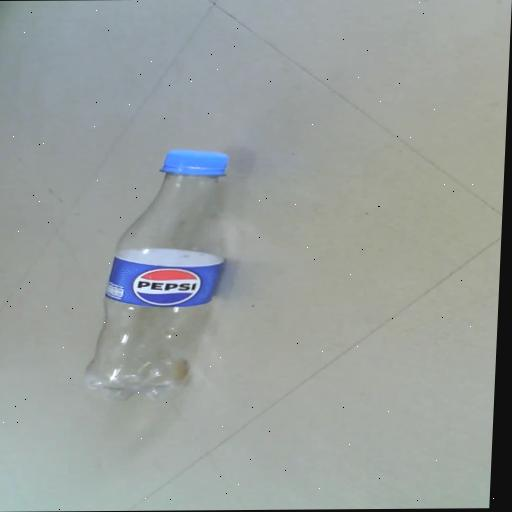bottle: (57, 140, 280, 408)
